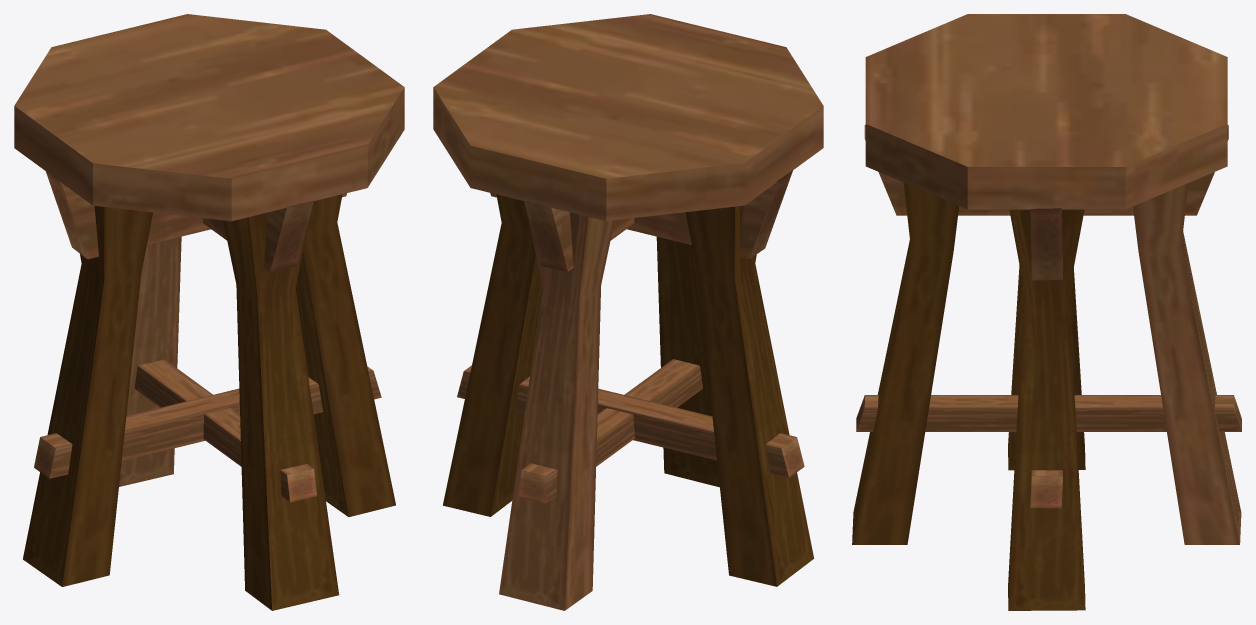
File: Stool.glb
3 renders of one model, left to right at view 1: azimuth 30°, elevation 25°; view 2: azimuth 150°, elevation 25°; view 3: azimuth 270°, elevation 25°, orthographic.
Parts seen in each view (by area): view 1: Stool; view 2: Stool; view 3: Stool.
Part boxes in pixels (x1,y1,x2,y2): Stool: (14,14,404,610); Stool: (433,14,823,610); Stool: (852,14,1241,610).
Size of the model in its own units: 0.4746 by 0.5887 by 0.4746.
Materials: 1 (1 with a texture image).
